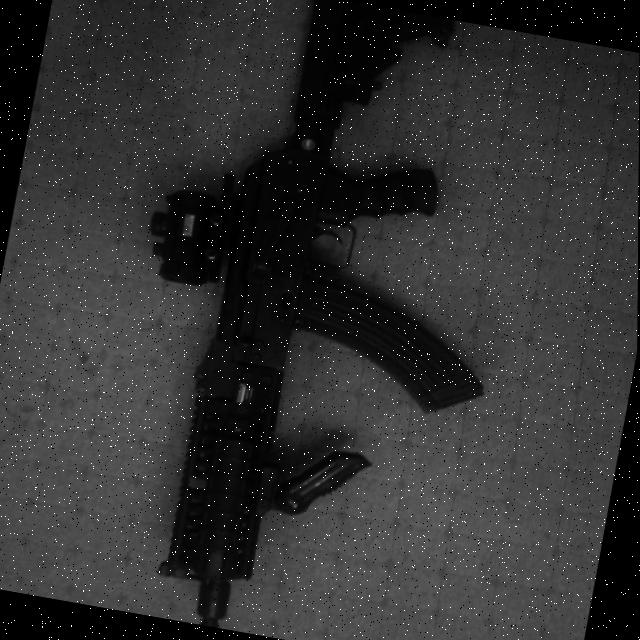firearm: (77, 0, 553, 640)
